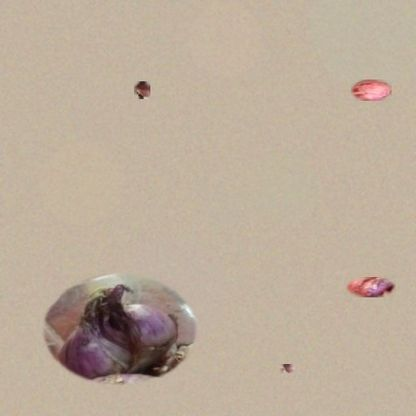damaged: (39, 271, 200, 388)
healthy: (346, 277, 396, 297), (351, 80, 392, 101)
sprouted: (134, 81, 150, 99), (280, 364, 295, 373)
